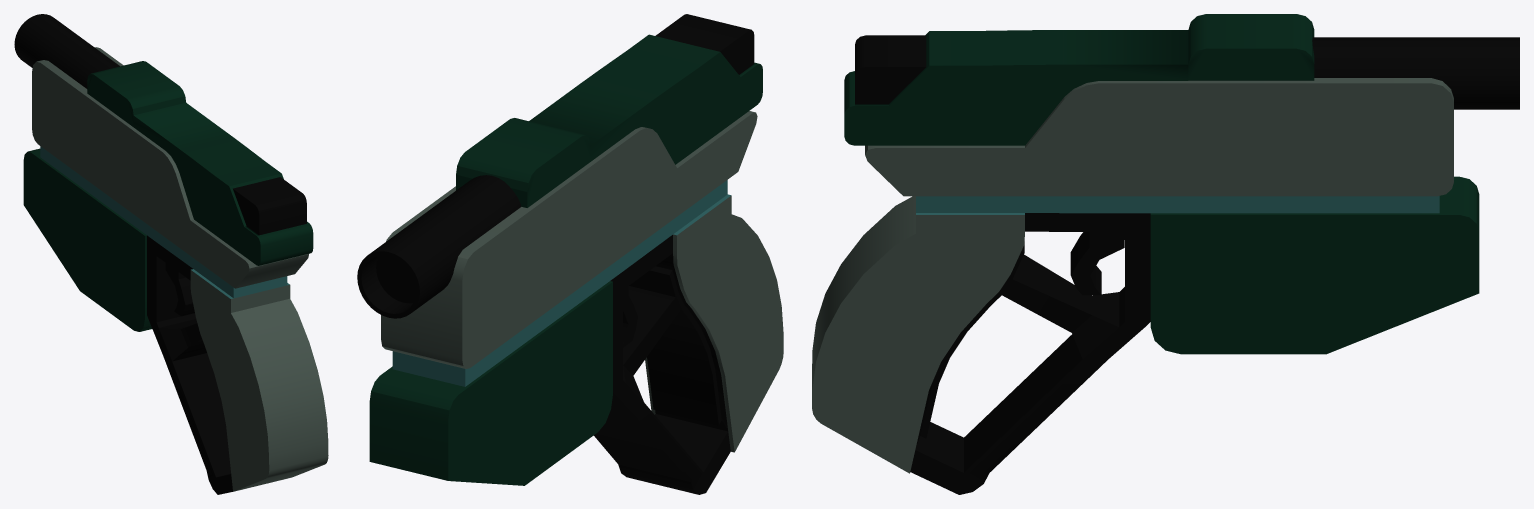
File: Sci Fi Pistol.fbx
3 renders of one model, left to right at view 1: azimuth 30°, elevation 25°; view 2: azimuth 150°, elevation 25°; view 3: azimuth 270°, elevation 25°, orthographic. The views are drawn at different scales.
Visible parts, largest first — view 1: Cube, Cylinder, Cube.001; view 2: Cube, Cylinder, Cube.001; view 3: Cube, Cylinder, Cube.001.
Part boxes in pixels (x1,y1,x2,y2): Cube: (23,47,328,494); Cylinder: (14,14,119,88); Cube.001: (165,263,194,316); Cube: (369,14,783,494); Cylinder: (357,175,521,318); Cube.001: (623,286,637,347); Cube: (812,14,1479,494); Cylinder: (1312,37,1519,109); Cube.001: (1070,232,1124,295).
Bounding box in the file's own units: 0.0842 × 0.4431 × 0.6374.
